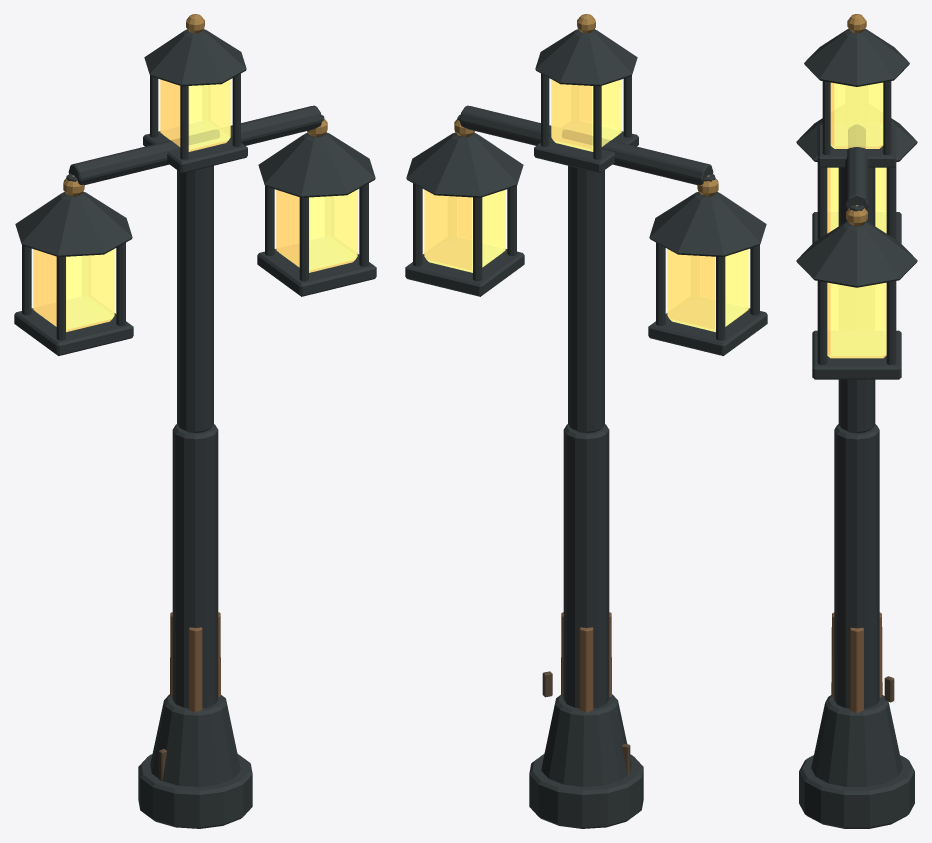
Rendered from runtime.glb.
3 renders of one model, left to right at view 1: azimuth 30°, elevation 25°; view 2: azimuth 150°, elevation 25°; view 3: azimuth 270°, elevation 25°, orthographic.
Parts seen in each view (by area): view 1: eiffel-historic-lamp-v10_nocol; view 2: eiffel-historic-lamp-v10_nocol; view 3: eiffel-historic-lamp-v10_nocol.
Boxes of the visible parts, x1,y1,x2,y2 form: eiffel-historic-lamp-v10_nocol: (14, 14, 376, 828); eiffel-historic-lamp-v10_nocol: (405, 14, 767, 828); eiffel-historic-lamp-v10_nocol: (796, 14, 917, 828).
Size of the model in its own units: 2.29 by 4.98 by 0.6927.
